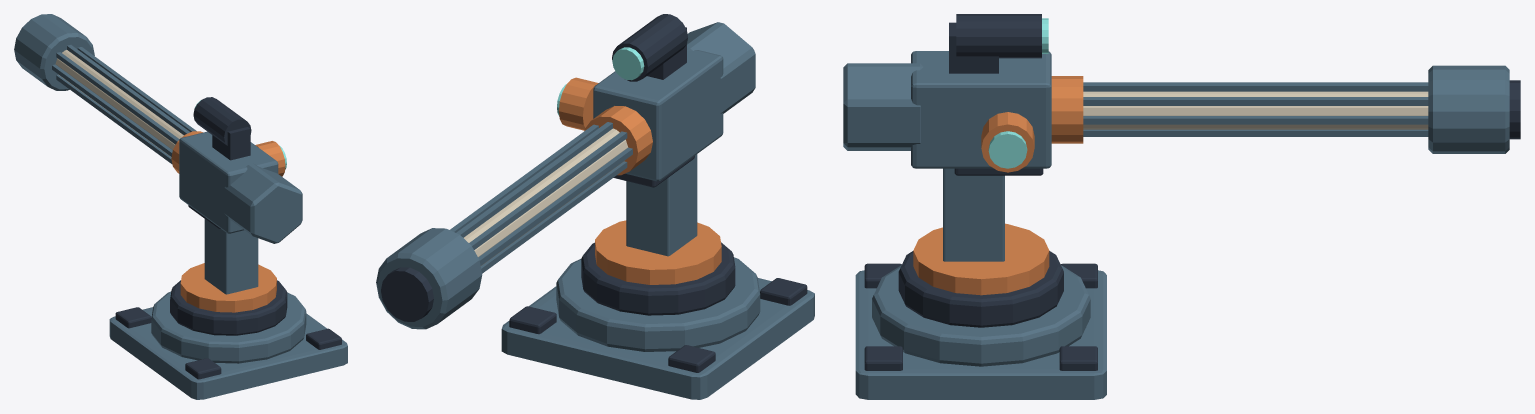
The model's file is sniper_tower.obj.
The picture shows the model from 3 angles, left to right: view 1: azimuth 30°, elevation 25°; view 2: azimuth 150°, elevation 25°; view 3: azimuth 270°, elevation 25°; orthographic projection. The views are drawn at different scales.
Parts seen in each view (by area): view 1: Base_Plate, Ped_1, Breech, Counterweight, Muzzle, Arm_Post, Ped_2, Ped_3, Barrel, Scope, Flute_3, Flute_2 (+8 smaller); view 2: Base_Plate, Breech, Ped_1, Muzzle, Ped_2, Arm_Post, Ped_3, Barrel, Counterweight, Scope, Bore, Collar (+12 smaller); view 3: Breech, Base_Plate, Ped_1, Barrel, Muzzle, Counterweight, Ped_2, Ped_3, Arm_Post, Scope, Flute_0, Flute_1 (+13 smaller).
Boxes of the visible parts, box(x1,y1,x2,y2) form: Base_Plate: box(109, 307, 347, 399); Ped_1: box(151, 291, 306, 363); Breech: box(179, 131, 278, 233); Counterweight: box(224, 163, 302, 243); Muzzle: box(14, 14, 94, 90); Arm_Post: box(204, 219, 258, 294); Ped_2: box(170, 280, 287, 335); Ped_3: box(180, 263, 276, 312); Barrel: box(55, 50, 183, 156); Scope: box(193, 97, 251, 145); Flute_3: box(56, 52, 179, 144); Flute_2: box(67, 45, 189, 134); Base_Plate: box(501, 278, 814, 399); Breech: box(593, 50, 723, 181); Ped_1: box(556, 257, 760, 351); Muzzle: box(376, 228, 482, 329); Ped_2: box(581, 242, 735, 315); Arm_Post: box(626, 154, 697, 256); Ped_3: box(595, 220, 721, 284); Barrel: box(464, 128, 628, 265); Counterweight: box(687, 22, 755, 113); Scope: box(612, 14, 687, 81); Bore: box(381, 267, 433, 321); Collar: box(584, 106, 652, 175); Breech: box(911, 51, 1051, 168); Base_Plate: box(855, 270, 1106, 399); Ped_1: box(872, 265, 1090, 366); Barrel: box(1083, 91, 1428, 129); Muzzle: box(1428, 65, 1509, 153); Counterweight: box(843, 63, 923, 150); Ped_2: box(898, 251, 1063, 327); Ped_3: box(913, 223, 1049, 295); Arm_Post: box(943, 168, 1004, 261); Scope: box(956, 14, 1041, 58); Flute_0: box(1083, 116, 1428, 124); Flute_1: box(1083, 97, 1428, 105).
Size of the model in its own units: 1.7 by 2.48 by 4.59.
